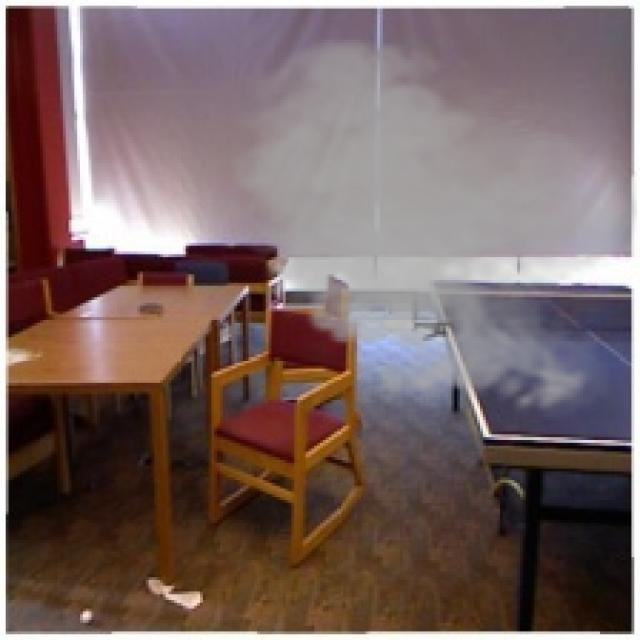smoke: (217, 28, 637, 423)
